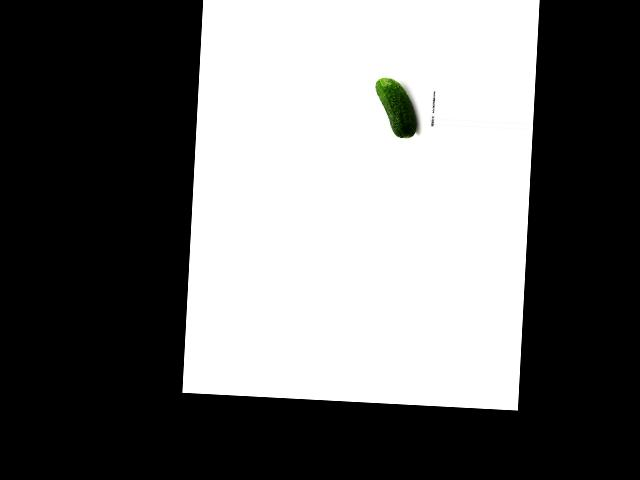cucumber: (372, 77, 419, 138)
